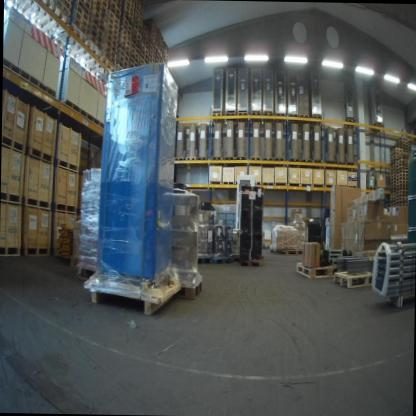pallet: (86, 269, 176, 319), (2, 57, 59, 105), (58, 99, 109, 141), (329, 265, 374, 291), (291, 258, 337, 281), (172, 272, 203, 304), (26, 144, 56, 168), (2, 131, 27, 157), (75, 262, 98, 288), (25, 194, 51, 212), (238, 255, 266, 271), (58, 158, 81, 177), (0, 189, 23, 208), (51, 198, 78, 214), (0, 240, 21, 260), (24, 245, 52, 259), (213, 254, 232, 270), (274, 246, 298, 256), (184, 154, 199, 170), (263, 108, 274, 126), (237, 108, 248, 126), (250, 109, 262, 125), (285, 110, 298, 124), (195, 152, 208, 166), (344, 115, 356, 130), (370, 120, 382, 135), (311, 112, 323, 127), (197, 253, 213, 264), (225, 109, 236, 125), (210, 110, 221, 124), (275, 110, 286, 123), (273, 153, 287, 163), (299, 113, 310, 124), (173, 153, 184, 164), (249, 153, 263, 161), (367, 182, 377, 192), (222, 155, 235, 162), (262, 155, 275, 162), (222, 179, 233, 187), (210, 155, 222, 162), (288, 157, 302, 163), (301, 156, 313, 163), (325, 157, 337, 164), (336, 159, 346, 167), (347, 183, 357, 191), (346, 159, 357, 166), (234, 154, 245, 161), (312, 157, 322, 164)
